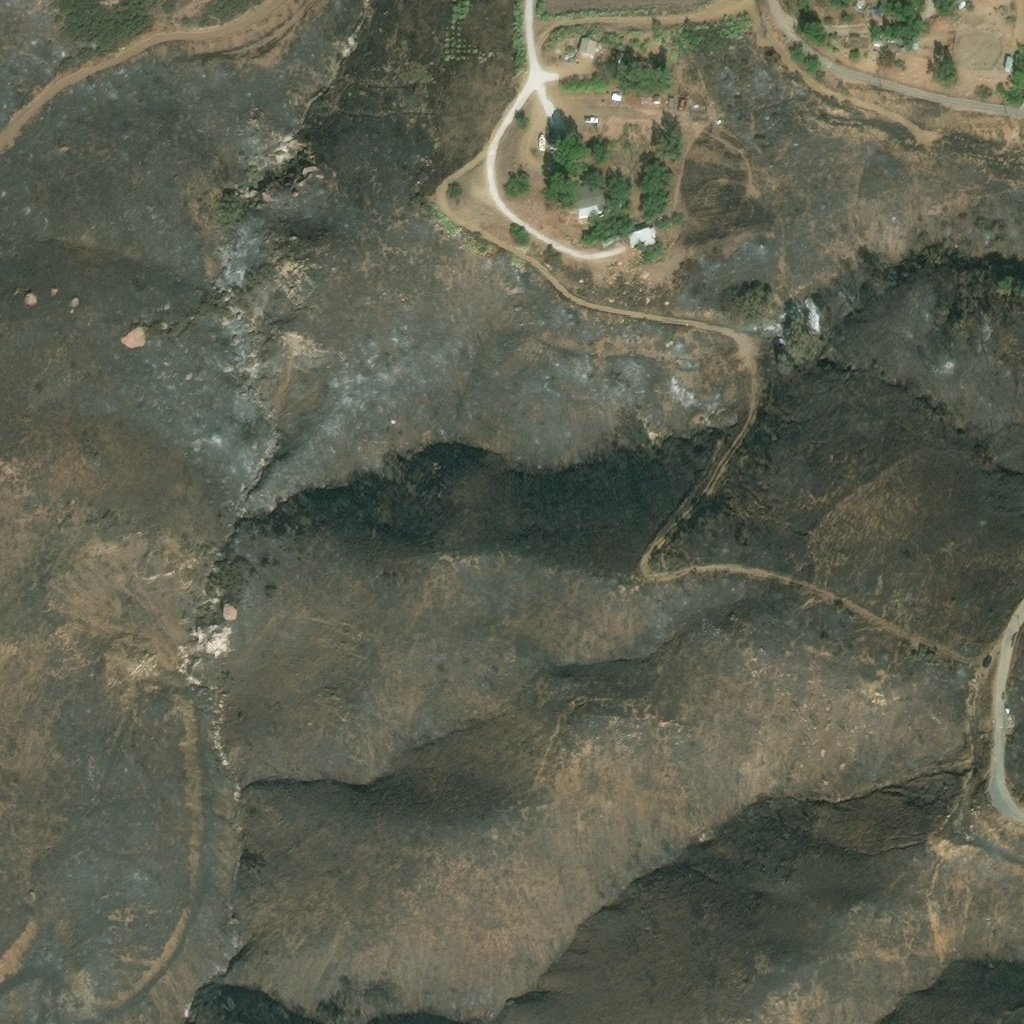0 no-damage: (563, 182, 613, 221), (626, 225, 658, 252), (578, 41, 596, 61), (1003, 59, 1014, 75), (854, 0, 866, 13), (667, 98, 674, 111), (611, 95, 621, 103), (910, 44, 917, 54), (872, 46, 880, 50)
3 destroyed: (640, 97, 660, 106)
4 un-classified: (950, 0, 966, 12)
